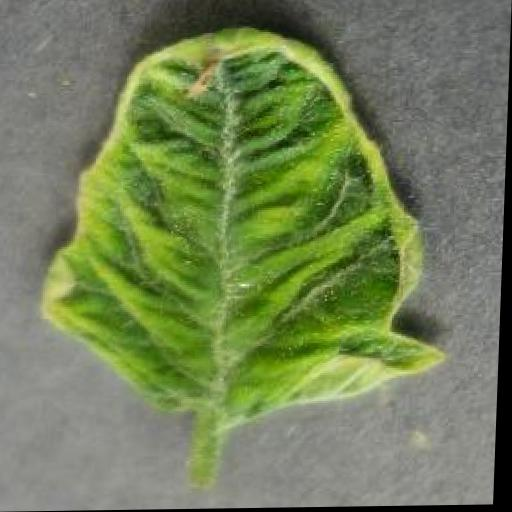Yellow Leaf Curl Virus: (35, 26, 461, 428)
